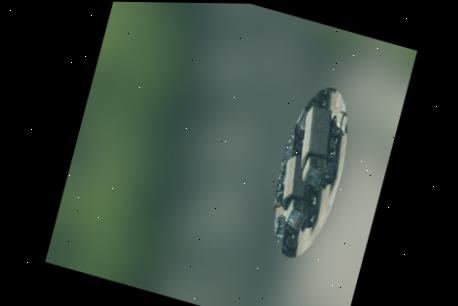truck: (287, 103, 350, 195), (266, 150, 330, 235)
